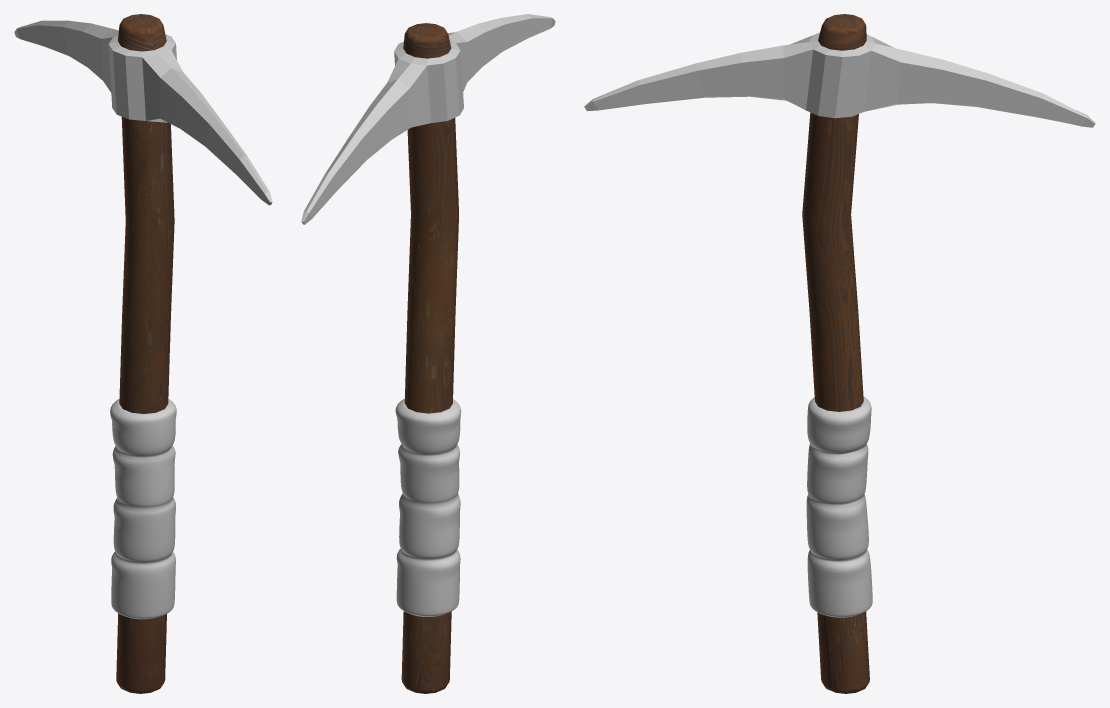
The model's file is pick_axe.fbx.
The picture shows the model from 3 angles, left to right: view 1: azimuth 30°, elevation 25°; view 2: azimuth 150°, elevation 25°; view 3: azimuth 270°, elevation 25°; orthographic projection.
Parts seen in each view (by area): view 1: stick, handle, pickAxeBlade; view 2: stick, handle, pickAxeBlade; view 3: pickAxeBlade, stick, handle.
Boxes of the visible parts, x1=… form: stick: x1=116, y1=14, x2=174, y2=693; handle: x1=110, y1=398, x2=176, y2=619; pickAxeBlade: x1=14, y1=20, x2=272, y2=205; stick: x1=401, y1=23, x2=458, y2=693; handle: x1=395, y1=398, x2=461, y2=616; pickAxeBlade: x1=301, y1=14, x2=555, y2=224; pickAxeBlade: x1=584, y1=32, x2=1095, y2=127; stick: x1=802, y1=14, x2=869, y2=693; handle: x1=806, y1=396, x2=872, y2=617.
Size of the model in its own units: 12.6 by 137 by 95.44.
